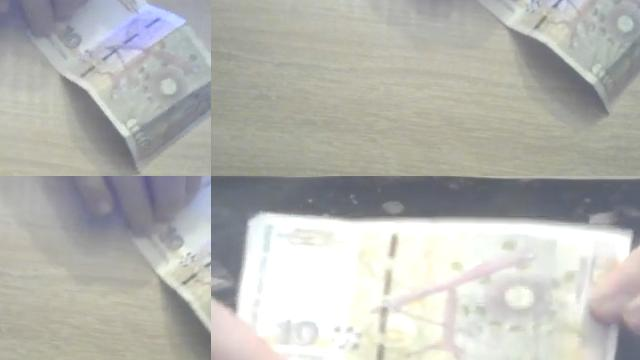10leva: (231, 212, 634, 360), (25, 0, 211, 176), (135, 176, 211, 336), (151, 220, 208, 262)
